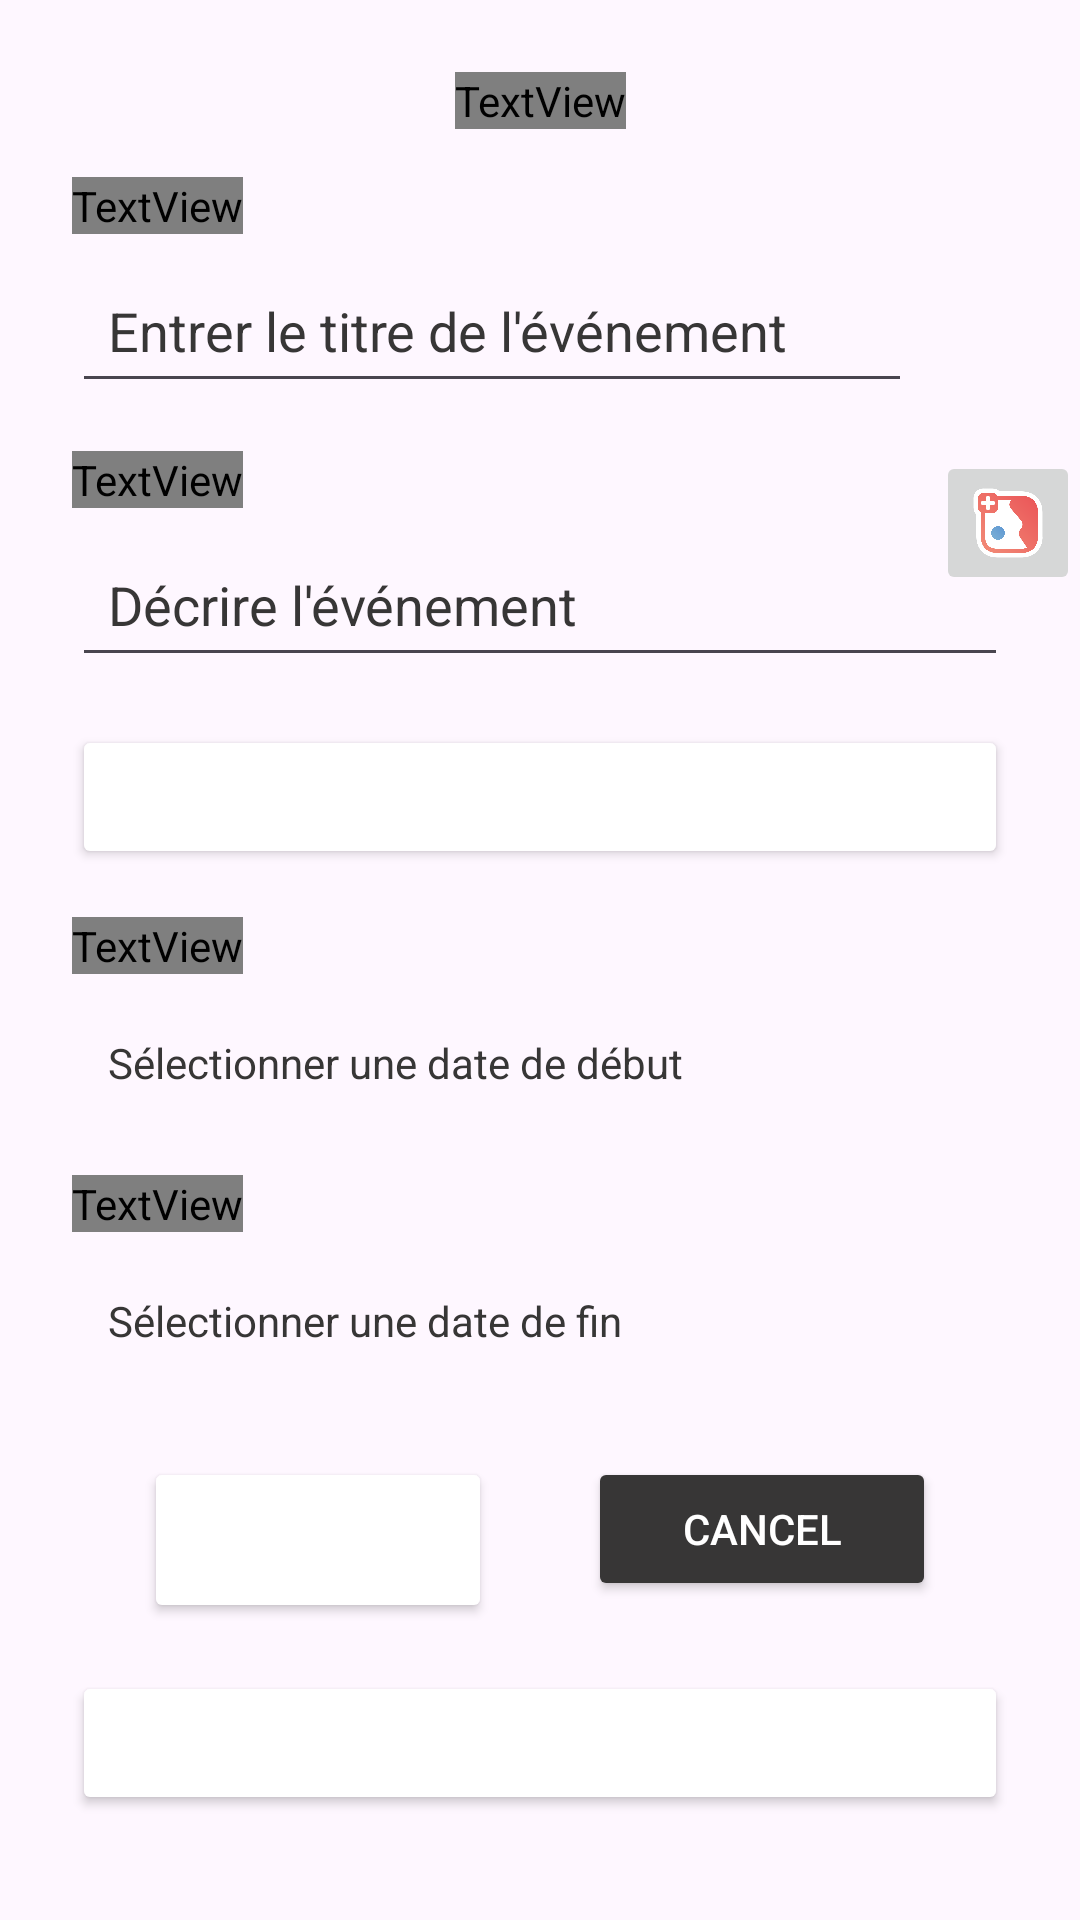

Named icons in this screenshot (1080px×1920px) and their bounding boxes, (left=x1, top=y1, right=x2, bottom=y2):
Ajouter une image: (left=948, top=469, right=1068, bottom=577)
